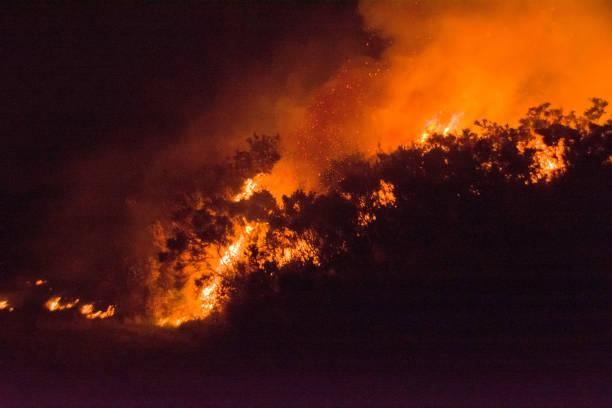Fire: (216, 223, 266, 251), (421, 110, 465, 140), (181, 284, 224, 314), (539, 154, 566, 174)
